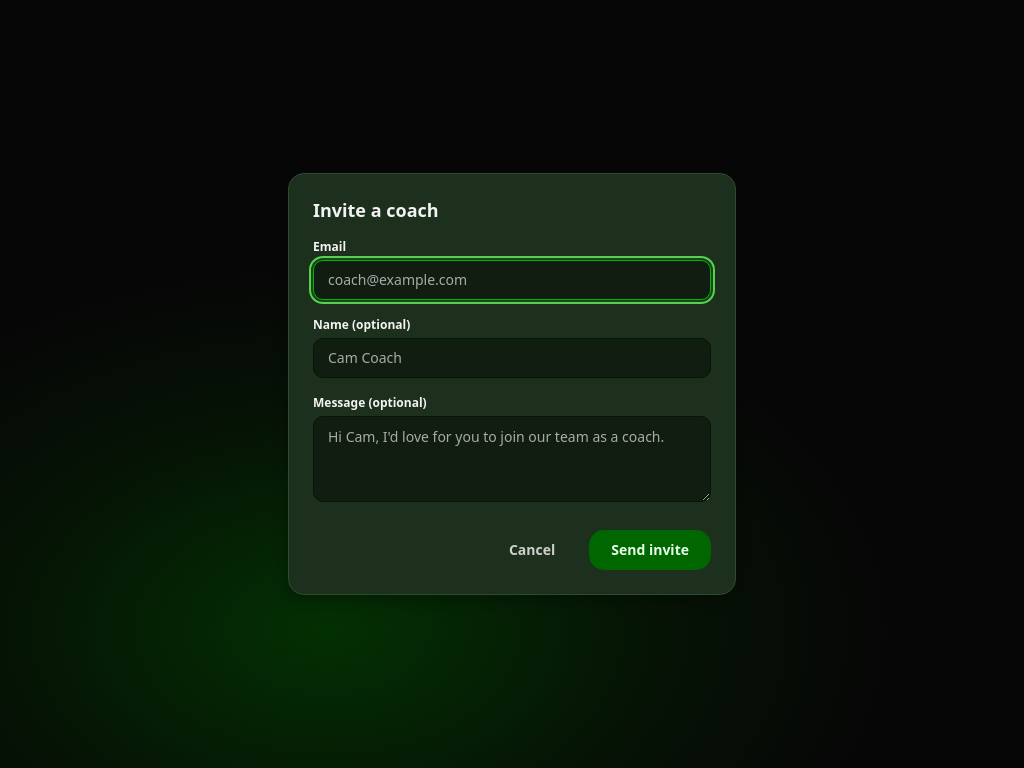
it: InviteCoachModal › shows a validation error and does not submit when email is empty
The width and height of the screenshot is (1024, 768).
Click the button "Send invite" at (650, 550), box [589,530,711,570]
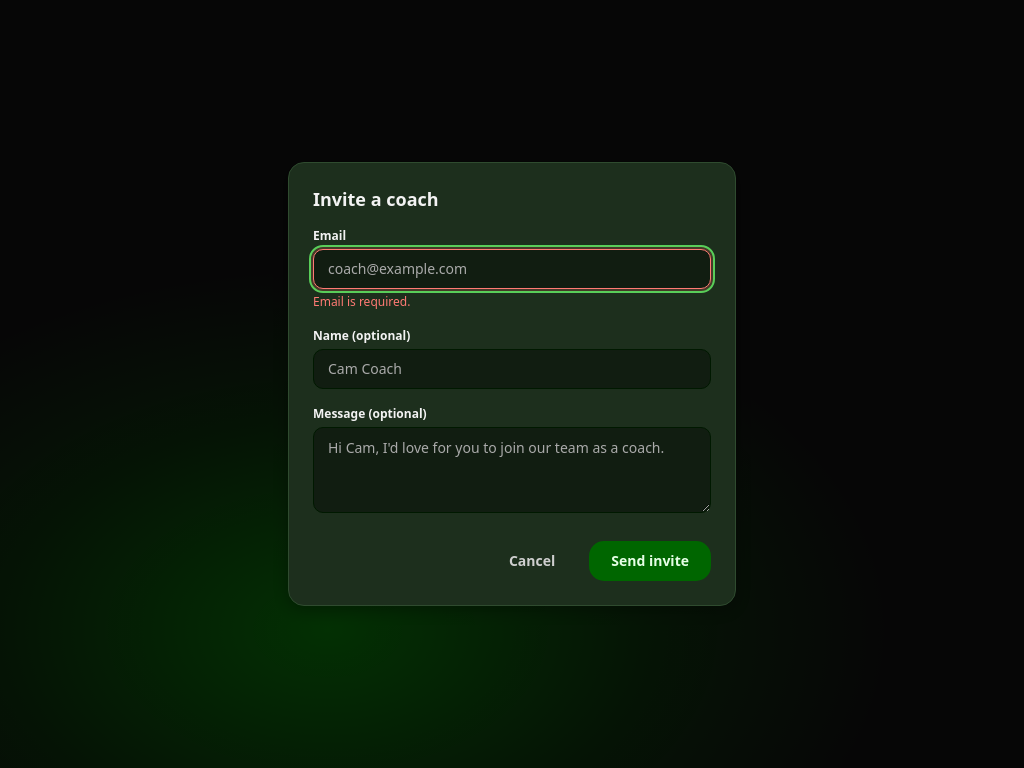
Check: the message "Email is required." is shown, box [313,293,410,310]
